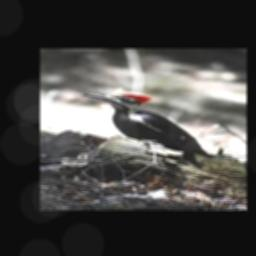Woodpecker: (83, 92, 214, 166)
